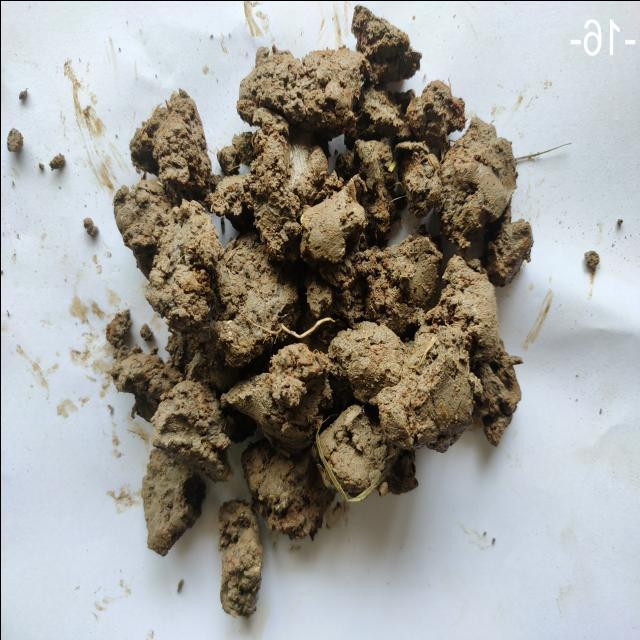soil: (196, 134, 463, 434)
